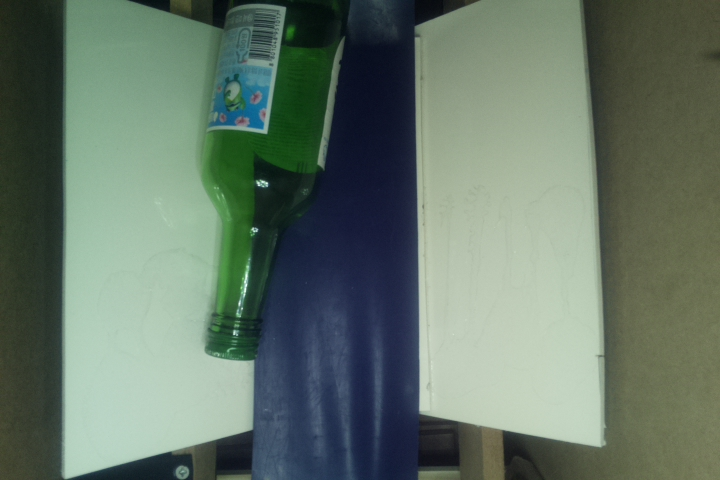soju: (191, 1, 361, 365)
